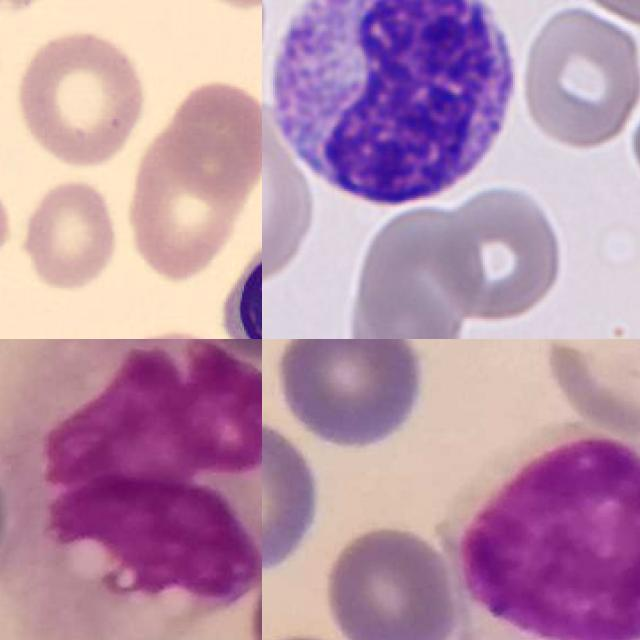Lymphocyte: (262, 0, 527, 218)
Monocyte: (0, 339, 262, 640), (454, 428, 640, 640)
RBC: (11, 26, 148, 170), (432, 181, 569, 325), (516, 2, 640, 151), (349, 198, 479, 339), (17, 176, 122, 296), (262, 96, 319, 290), (178, 0, 262, 13)
